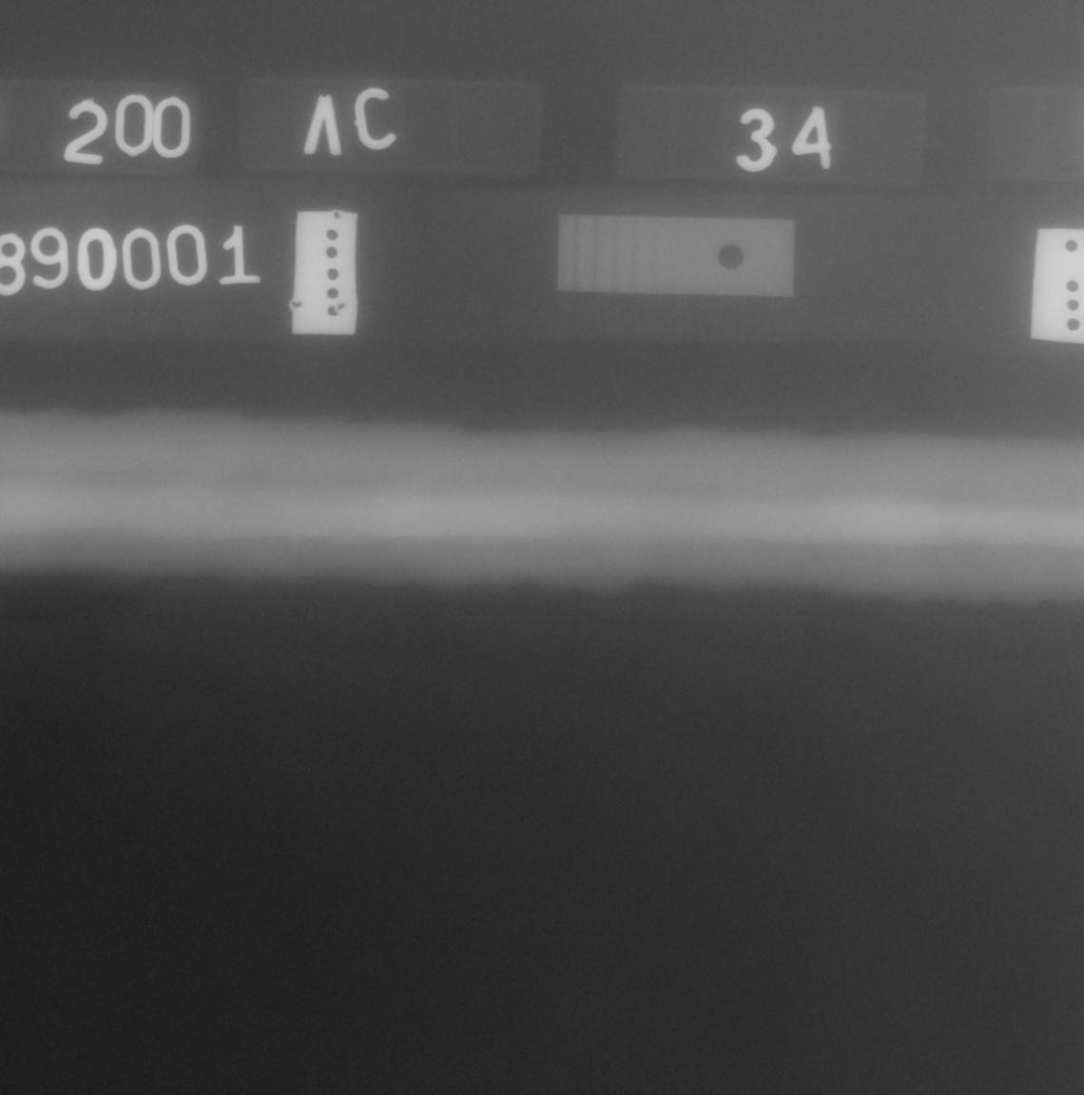Reference Standard 1: (559, 214, 795, 297)
